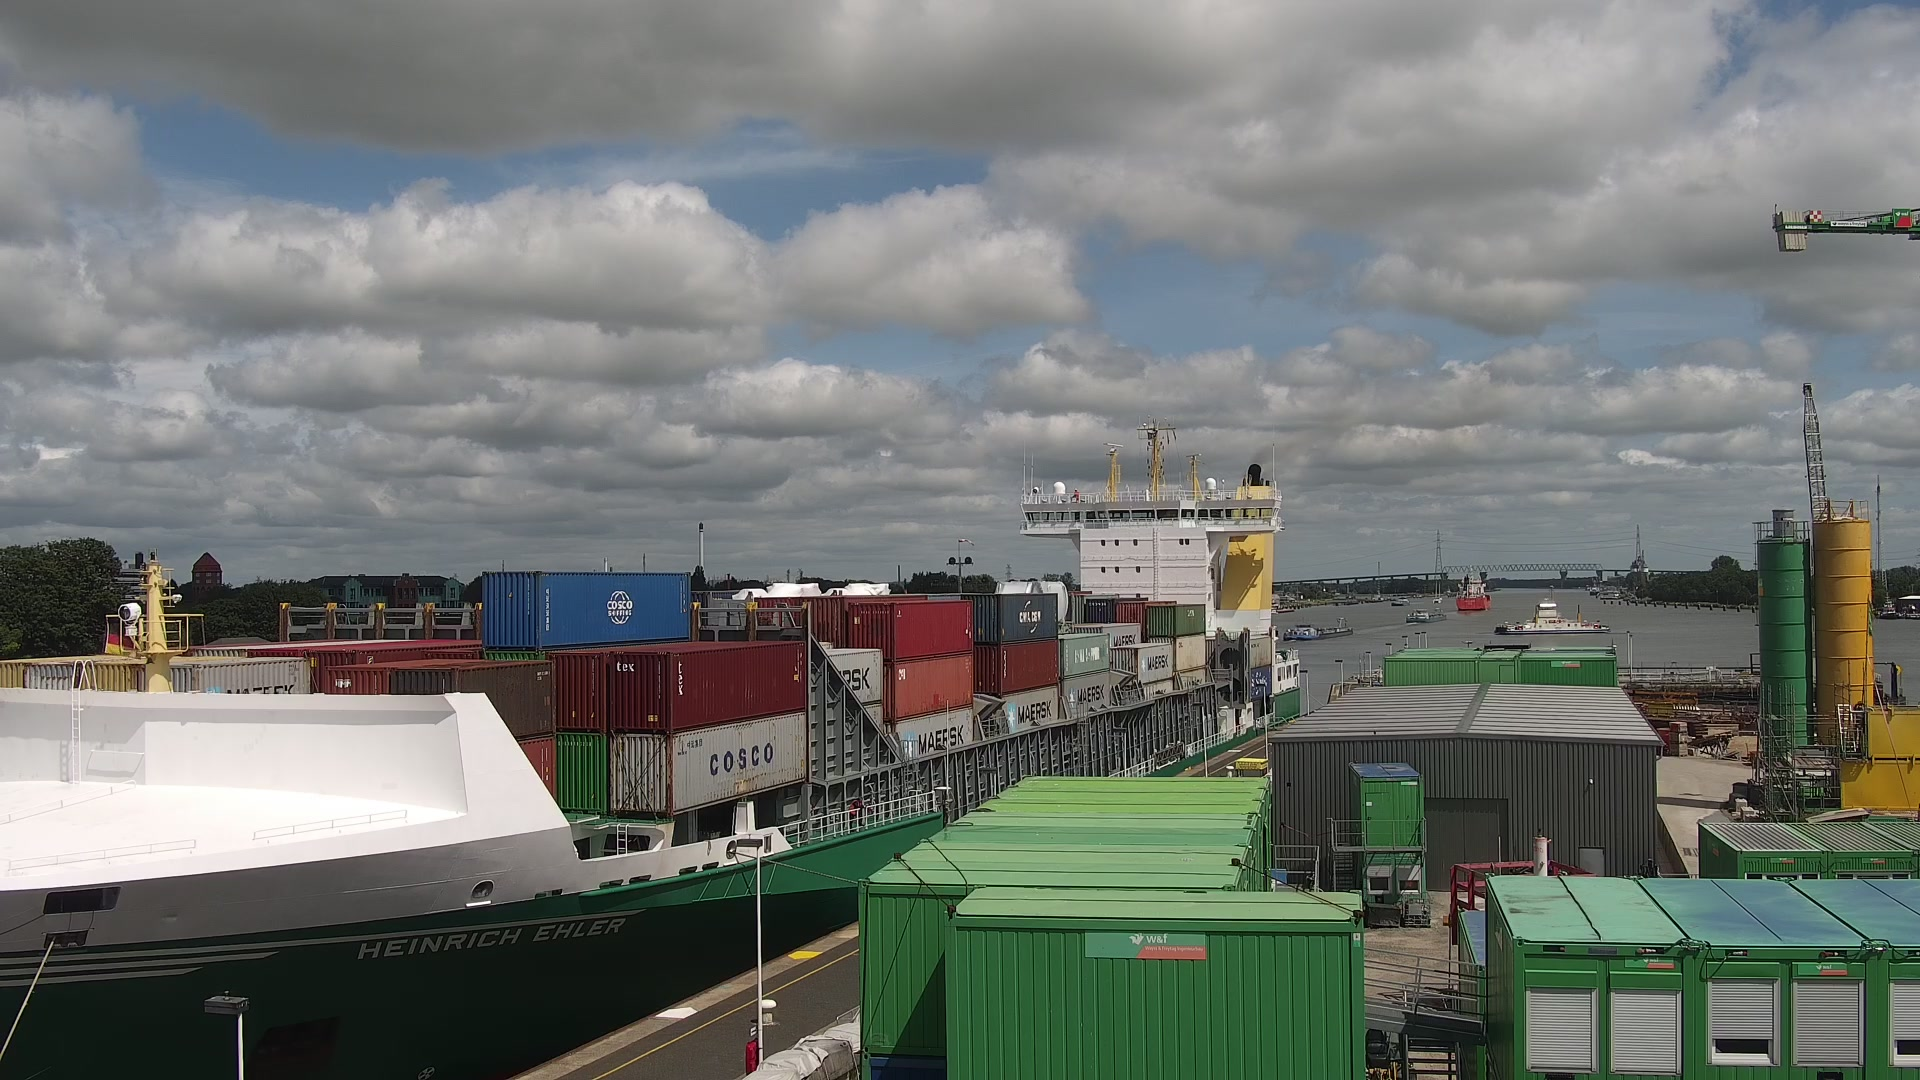sea: (1, 415, 1299, 1080), (1493, 583, 1610, 636), (1280, 616, 1354, 641), (1455, 564, 1491, 611), (1404, 607, 1447, 624), (1873, 599, 1896, 618), (1432, 580, 1443, 605), (1390, 596, 1410, 607), (1589, 583, 1600, 593)
